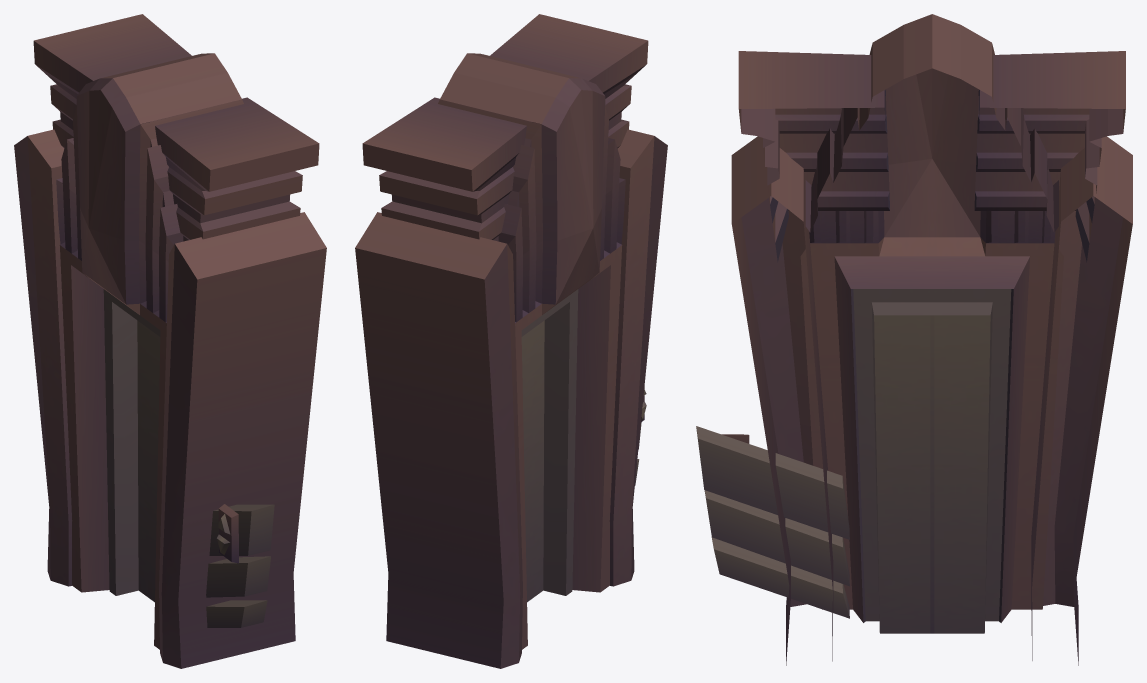
The model's file is SM_ElevatorDecoClosed.fbx.
3 renders of one model, left to right at view 1: azimuth 30°, elevation 25°; view 2: azimuth 150°, elevation 25°; view 3: azimuth 270°, elevation 25°, orthographic. The views are drawn at different scales.
Visible parts, largest first — view 1: SM_ElevatorGoldClosed; view 2: SM_ElevatorGoldClosed; view 3: SM_ElevatorGoldClosed.
Part boxes in pixels (x1,y1,x2,y2): SM_ElevatorGoldClosed: [14, 14, 326, 668]; SM_ElevatorGoldClosed: [355, 14, 667, 668]; SM_ElevatorGoldClosed: [696, 14, 1132, 665].
Size of the model in its own units: 108 by 254 by 380.
